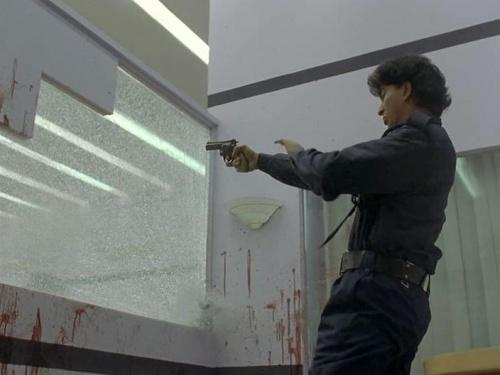Gun: (205, 138, 239, 168)
